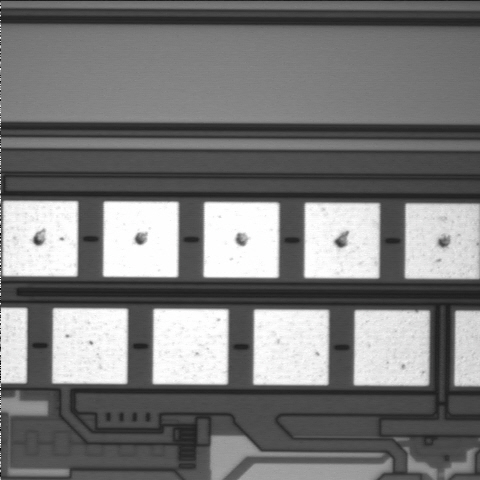pad: (103, 201, 179, 277), (203, 202, 279, 278), (52, 308, 128, 384), (253, 309, 329, 385), (3, 201, 78, 277), (304, 203, 380, 278), (153, 309, 228, 385), (354, 310, 429, 386)
